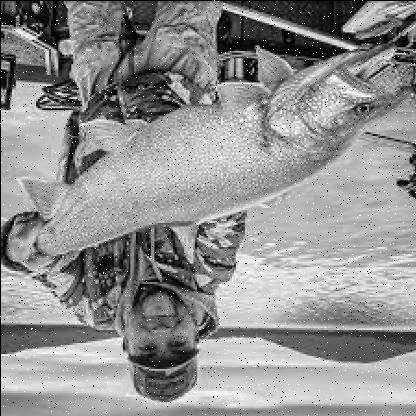fish: (5, 44, 414, 276)
